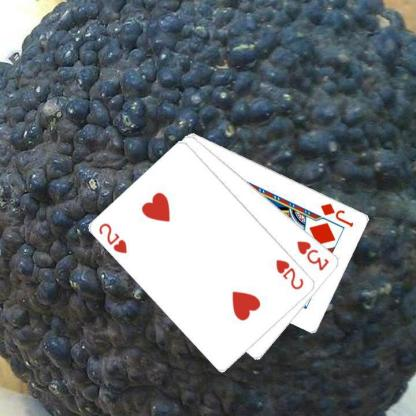2H: (96, 220, 129, 256), (273, 257, 306, 291)
3H: (294, 238, 331, 272)
JD: (318, 200, 356, 228)
